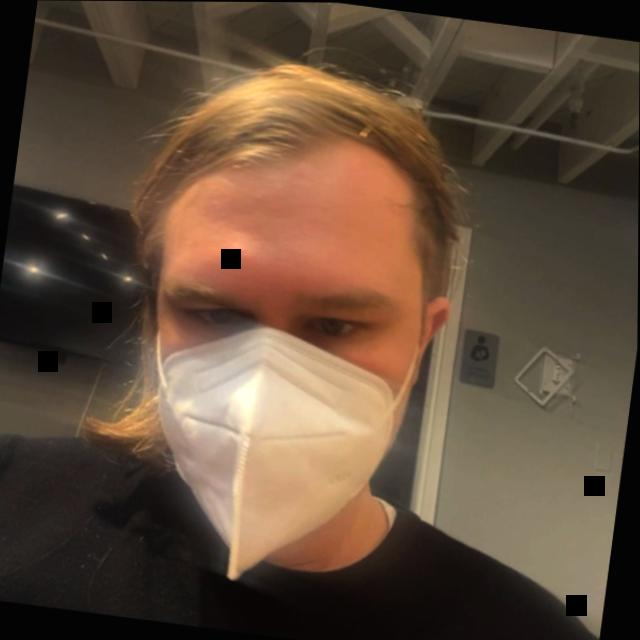Mask: (84, 40, 531, 600)
